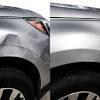fender-dent: (0, 15, 49, 90)
